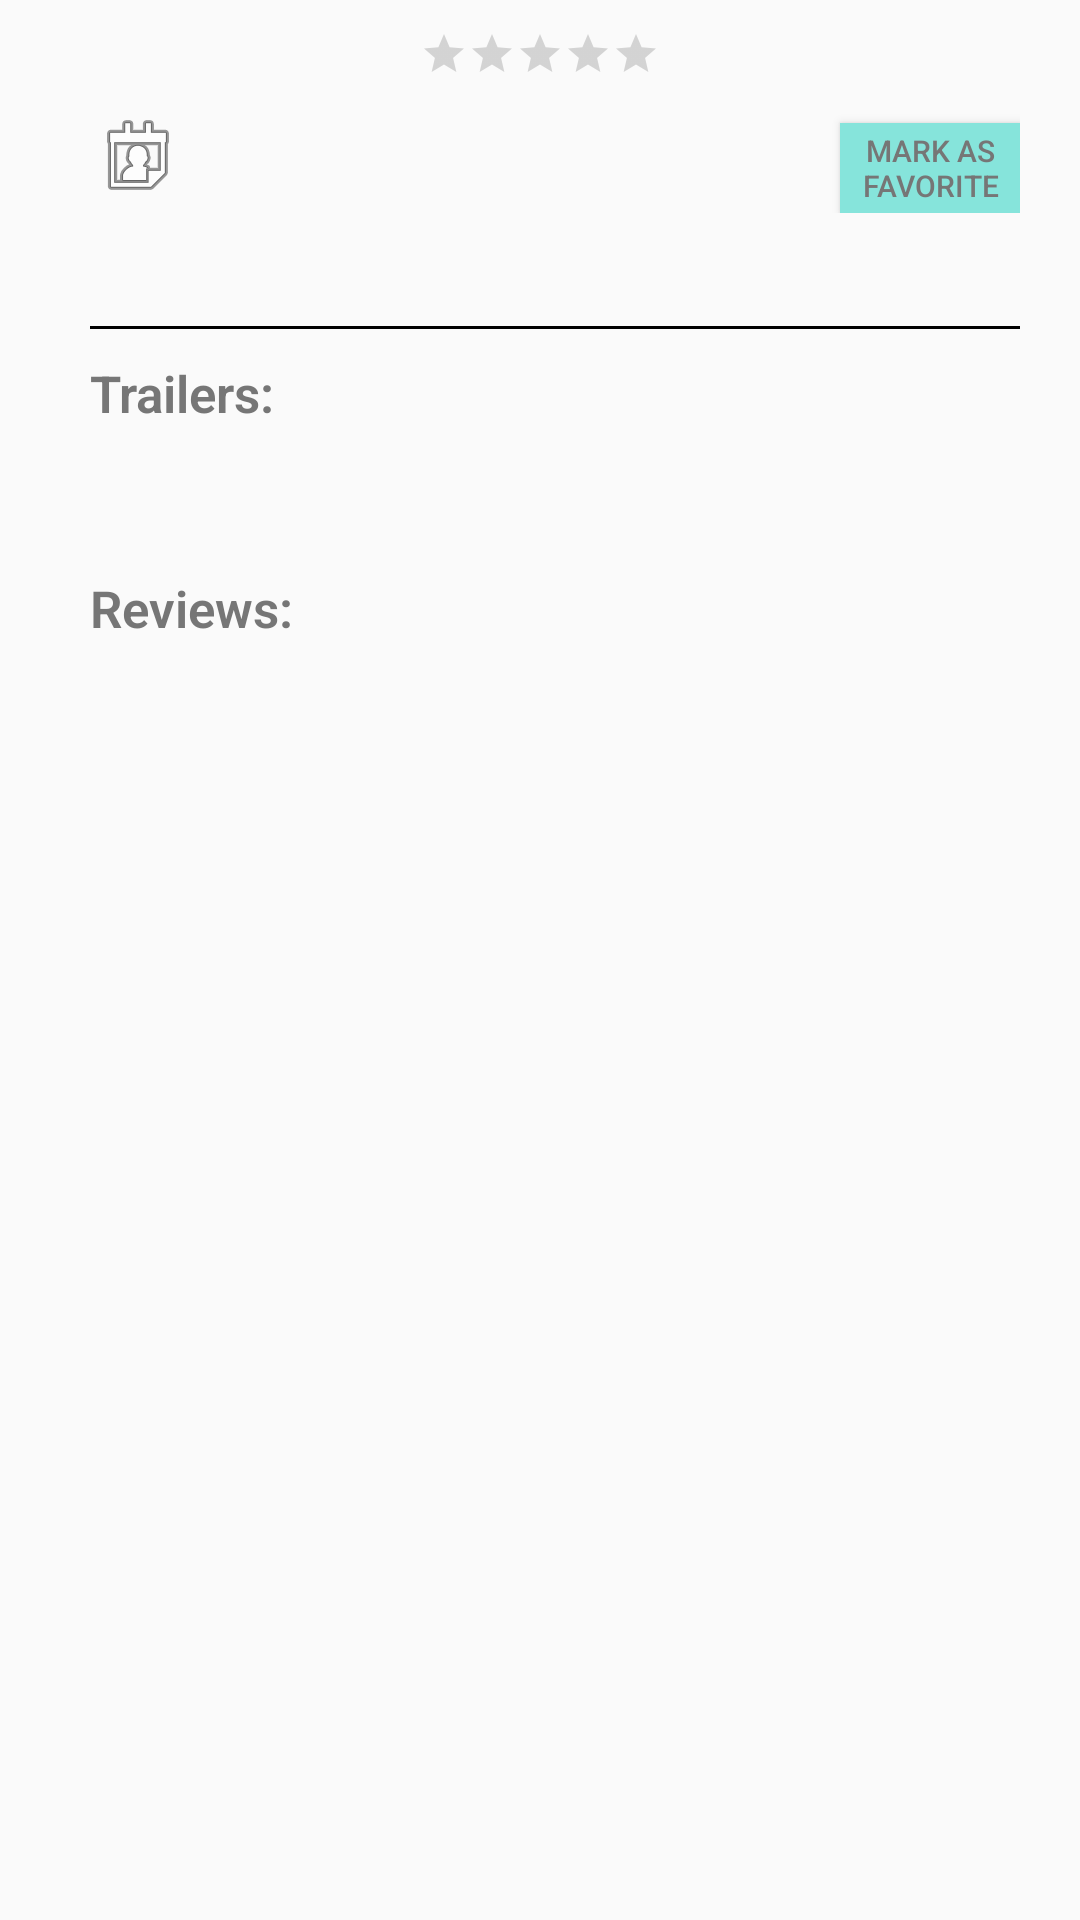

Locate icon controls on the screen. Image size 1080x1920, boxes as [x1=x1, y1=y1, x2=x2, y2=y2].
calendar: [x1=107, y1=120, x2=169, y2=190]
